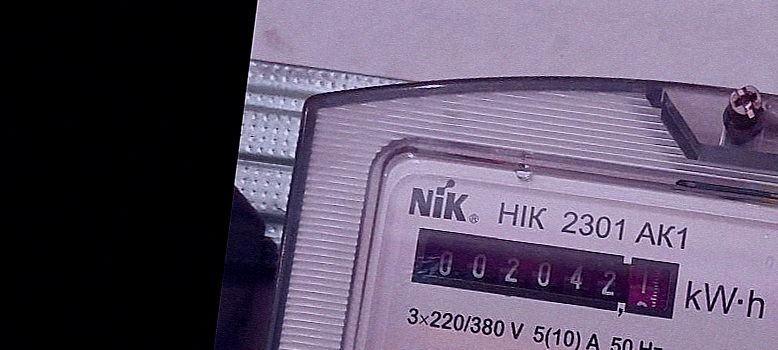0: (434, 247, 456, 279), (532, 259, 554, 291), (468, 251, 489, 284)
1: (634, 267, 652, 299)
2: (501, 256, 522, 287), (598, 268, 618, 299)
4: (565, 261, 587, 295)
screen: (405, 224, 685, 330)
